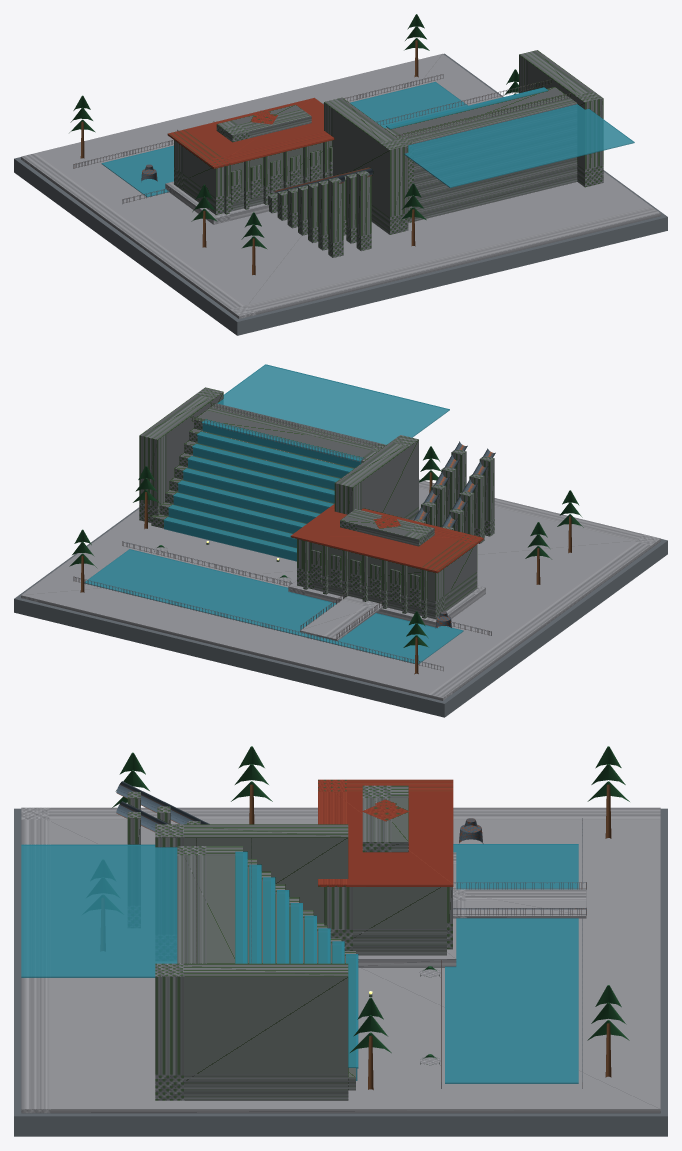
The model's file is ultra_lm_19_thuy_dien_ankroet.glb.
3 renders of one model, top to bottom at view 1: azimuth 30°, elevation 25°; view 2: azimuth 150°, elevation 25°; view 3: azimuth 270°, elevation 25°, orthographic. The views are drawn at different scales.
Parts seen in each view (by area): view 1: DamCrest_And_Courtyard, Powerhouse_And_SteppedGraniteDam, Waterfall_Cascade_And_Stream, FoundationSkirt_Minus3m, French_Industrial_Tile_Roof, TwinPenstocks_Switchyard_And_Bridge, Pine_Canopies, Pine_Trunks; view 2: DamCrest_And_Courtyard, Waterfall_Cascade_And_Stream, Powerhouse_And_SteppedGraniteDam, FoundationSkirt_Minus3m, French_Industrial_Tile_Roof, TwinPenstocks_Switchyard_And_Bridge, Pine_Canopies, Pine_Trunks; view 3: DamCrest_And_Courtyard, Powerhouse_And_SteppedGraniteDam, Waterfall_Cascade_And_Stream, FoundationSkirt_Minus3m, French_Industrial_Tile_Roof, Pine_Canopies, TwinPenstocks_Switchyard_And_Bridge, Pine_Trunks.
Part boxes in pixels (x1,y1,x2,y2): DamCrest_And_Courtyard: (21,53,660,318); Powerhouse_And_SteppedGraniteDam: (174,50,603,257); Waterfall_Cascade_And_Stream: (101,82,634,197); FoundationSkirt_Minus3m: (14,53,667,335); French_Industrial_Tile_Roof: (167,98,334,168); TwinPenstocks_Switchyard_And_Bridge: (73,74,570,203); Pine_Canopies: (69,14,518,248); Pine_Trunks: (80,40,418,274); DamCrest_And_Courtyard: (21,479,660,700); Waterfall_Cascade_And_Stream: (84,364,463,664); Powerhouse_And_SteppedGraniteDam: (139,387,494,619); FoundationSkirt_Minus3m: (14,507,667,717); French_Industrial_Tile_Roof: (290,504,483,573); TwinPenstocks_Switchyard_And_Bridge: (73,402,495,670); Pine_Canopies: (69,446,583,647); Pine_Trunks: (80,472,571,674); DamCrest_And_Courtyard: (21,807,660,1113); Powerhouse_And_SteppedGraniteDam: (127,785,452,1100); Waterfall_Cascade_And_Stream: (21,844,578,1083); FoundationSkirt_Minus3m: (14,808,667,1136); French_Industrial_Tile_Roof: (318,779,453,886); Pine_Canopies: (88,746,629,1058); TwinPenstocks_Switchyard_And_Bridge: (116,781,586,1088); Pine_Trunks: (102,784,611,1089).
Bounding box in the file's own units: 98 × 22 × 88.
10 materials, 4 textured.
